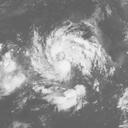cyclone: (32, 25, 106, 85)
